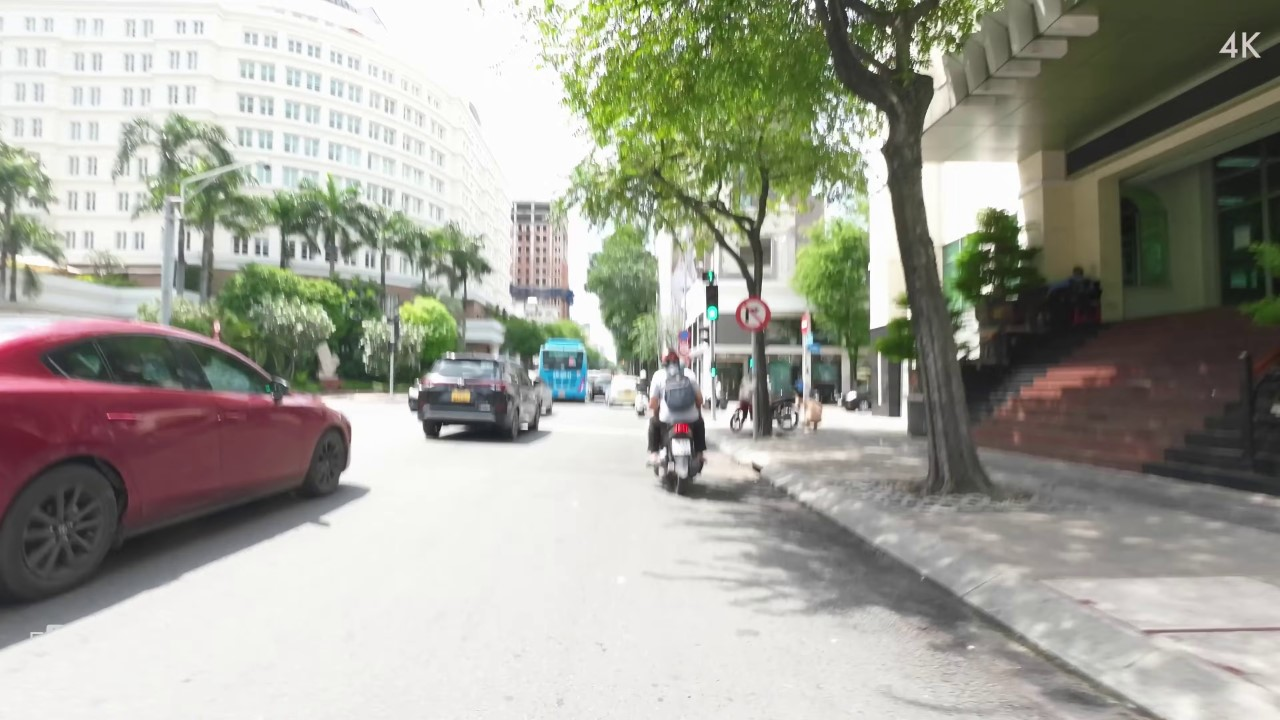cam_re_phai: (735, 295, 772, 333)
